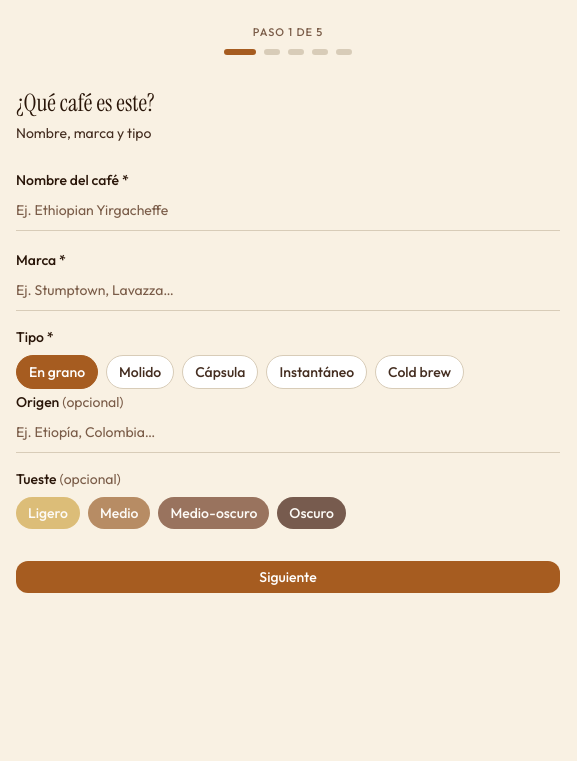
CoffeeForm step gating › goes back a step on Atrás
This screenshot has width=577, height=761.
Type "Yirgacheffe" into the field labelled "Nombre del café *".
click(288, 210); type("Yirgacheffe")  # box [16,190,560,230]
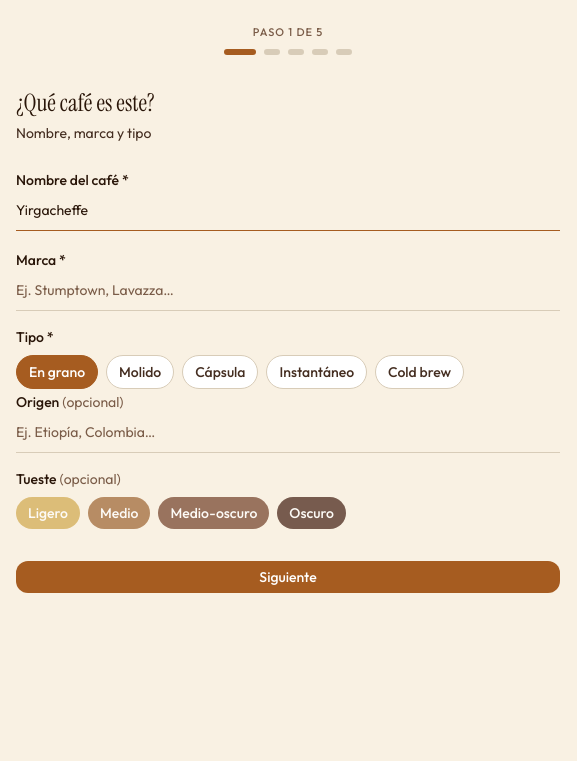
Type "Stumptown" into the field labelled "Marca *".
click(288, 290); type("Stumptown")  # box [16,270,560,310]
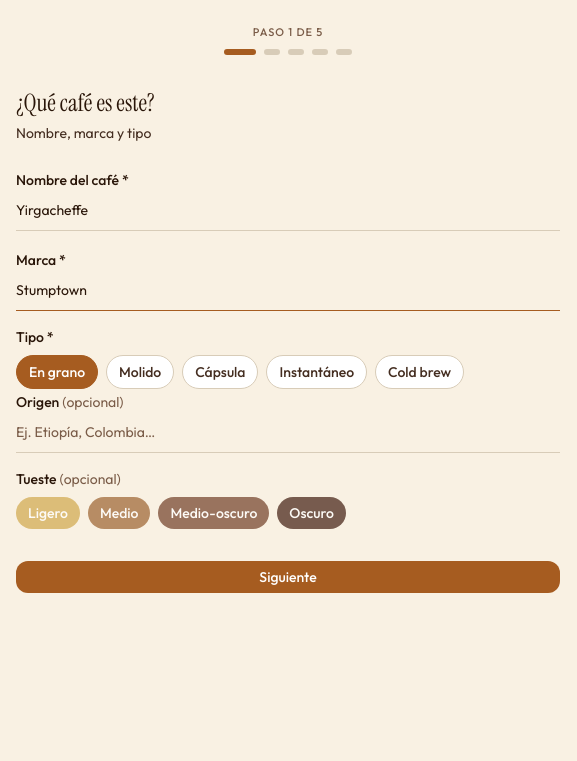
Click the button "Siguiente".
click(288, 576)  # box [16,560,560,592]
(page scrolled)
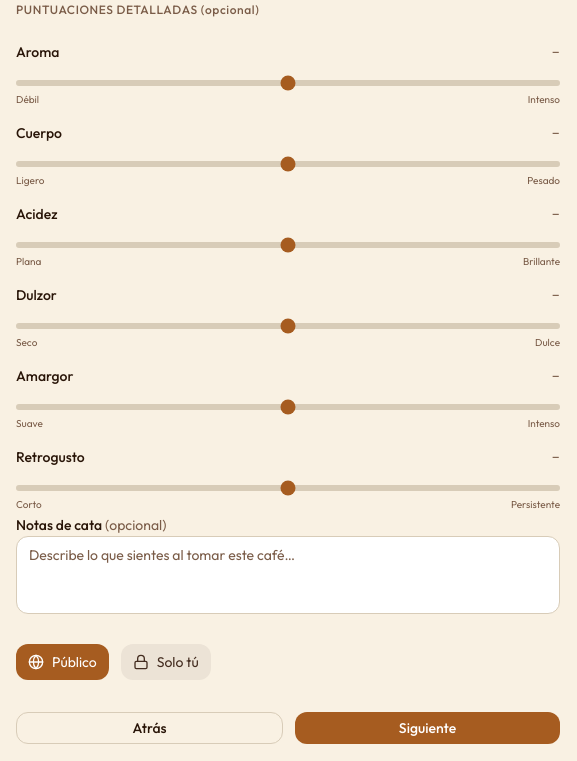
Click the button "Atrás".
click(150, 728)  # box [16,712,283,744]
(page scrolled)
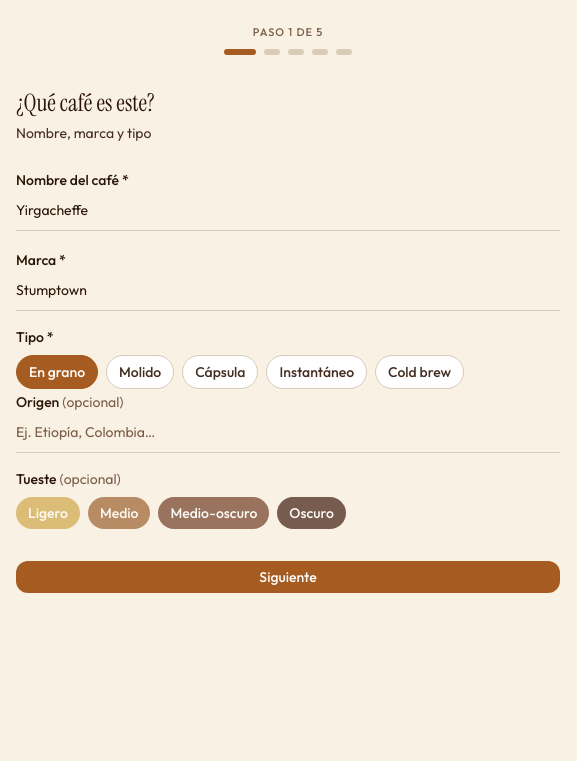
Expected: the text "Paso 1 de 5" is shown, [253,24,323,40]
